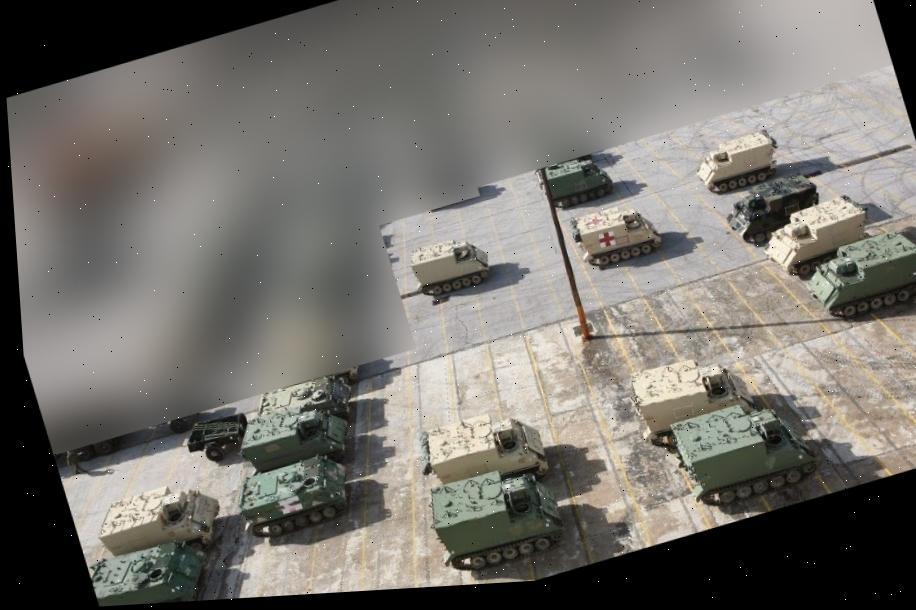armored_car: (717, 155, 896, 302), (663, 385, 825, 516), (419, 454, 571, 580), (416, 399, 552, 503), (226, 446, 363, 544), (794, 220, 916, 329), (87, 474, 222, 569), (84, 529, 221, 607), (563, 193, 666, 275), (402, 226, 497, 304), (688, 126, 786, 199), (534, 149, 617, 215)
tank: (231, 394, 363, 486)
